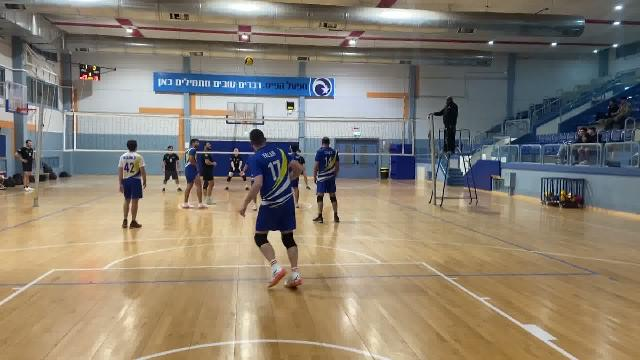ball: (243, 55, 257, 67)
